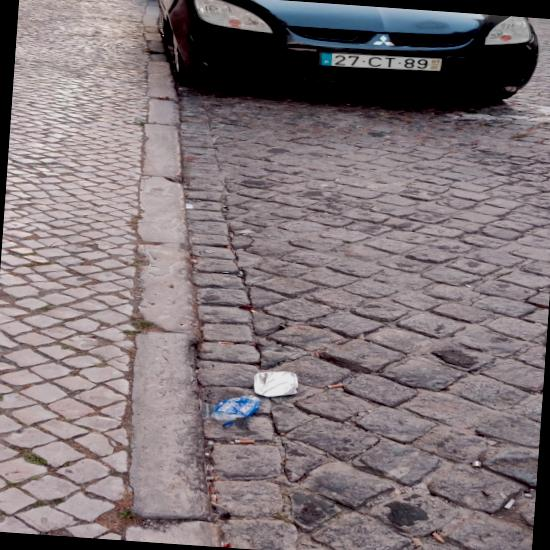Aluminium foil: (254, 371, 298, 396)
Cigarette: (503, 498, 515, 509), (411, 537, 422, 547), (326, 383, 343, 388), (234, 440, 254, 443), (218, 341, 234, 344), (209, 494, 215, 502), (79, 334, 95, 337), (369, 205, 378, 209), (234, 138, 240, 141)
Metal bottle cap: (202, 248, 213, 253)
Plastic film: (198, 395, 260, 426), (247, 309, 256, 312)
Unlabeled litter: (471, 460, 482, 467), (185, 203, 192, 208)
